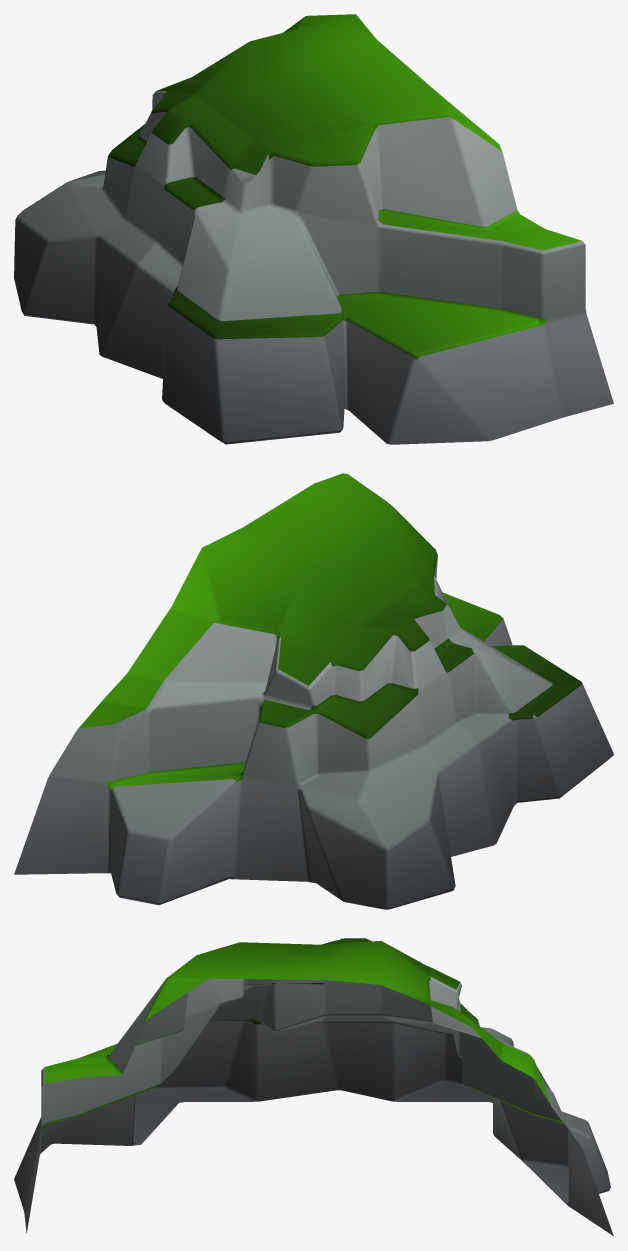
The model's file is Scogliera_lp.fbx.
3 renders of one model, top to bottom at view 1: azimuth 30°, elevation 25°; view 2: azimuth 150°, elevation 25°; view 3: azimuth 270°, elevation 25°, orthographic. The views are drawn at different scales.
Visible parts, largest first — view 1: pCube1; view 2: pCube1; view 3: pCube1.
Part boxes in pixels (x1,y1,x2,y2): pCube1: [14, 14, 613, 444]; pCube1: [14, 473, 613, 909]; pCube1: [14, 938, 613, 1236].
Bounding box in the file's own units: 576 × 394 × 949.
